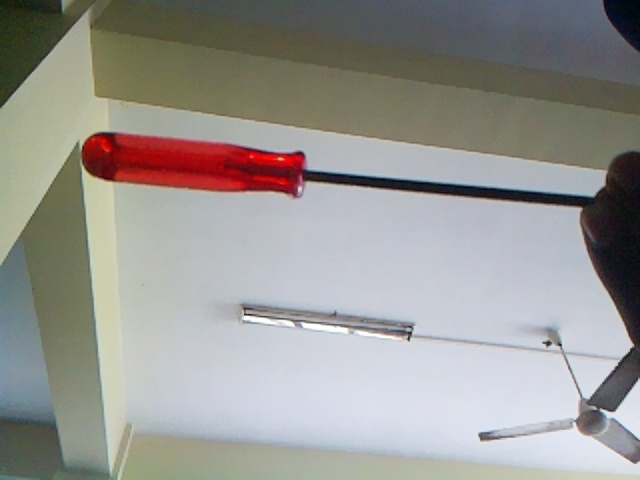redskrew: (79, 132, 580, 218)
